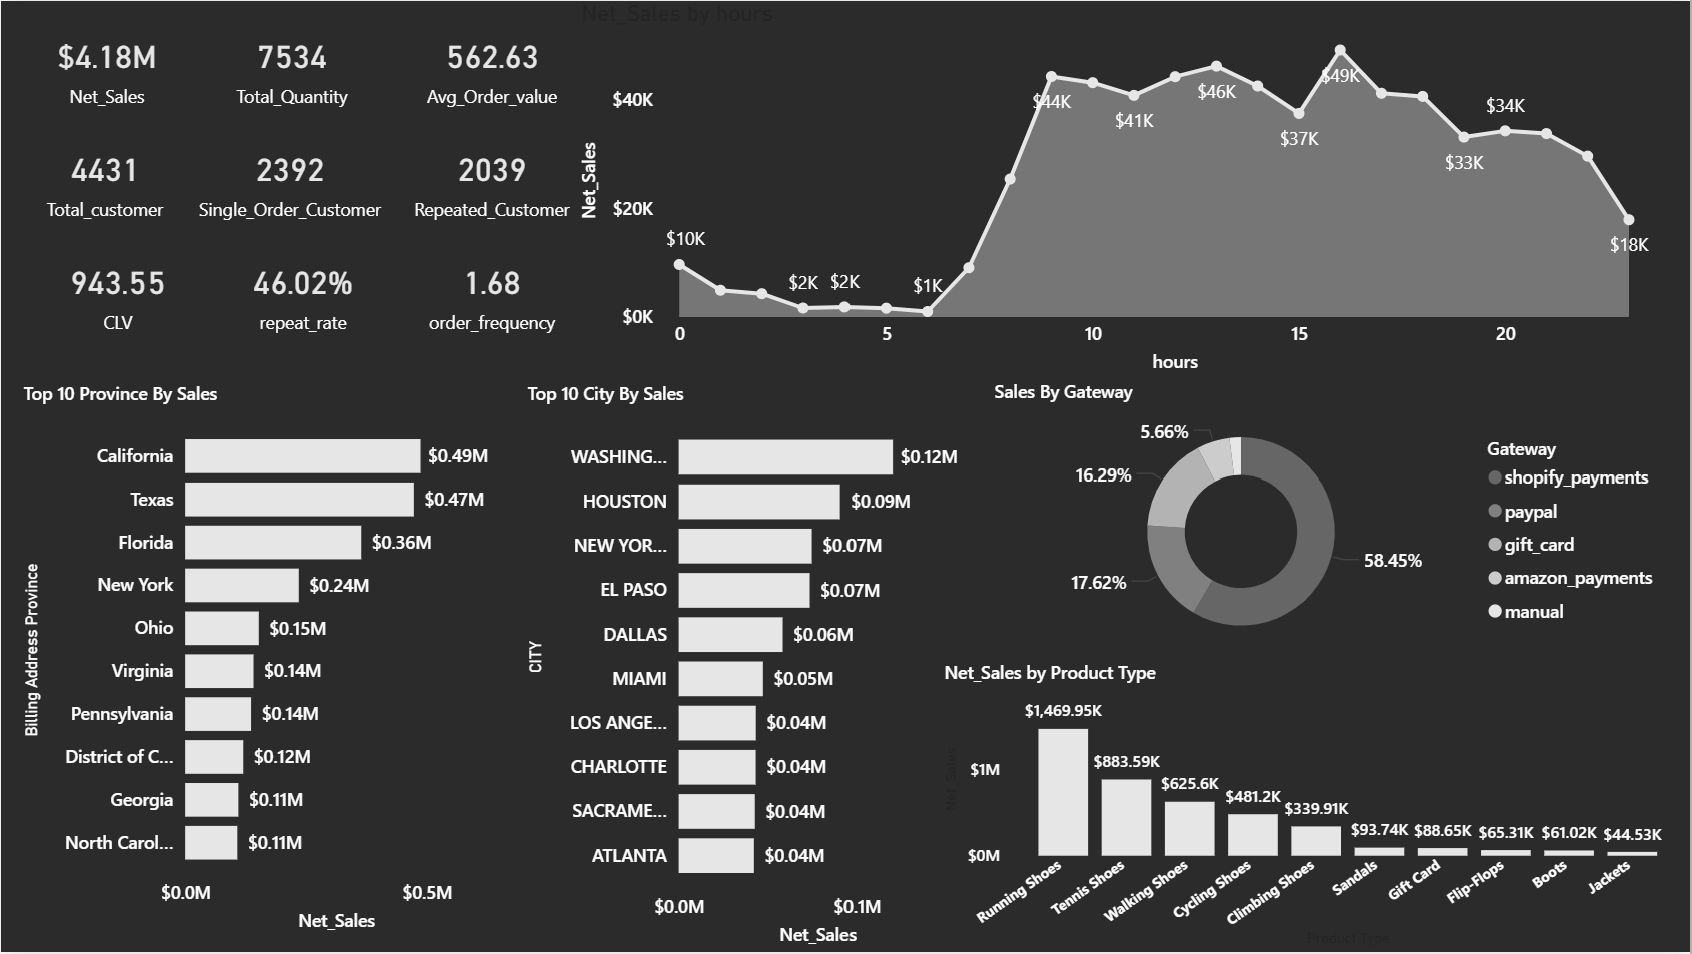

What the dashboard file says about the page in this screenshot:
{"tool":"powerbi","page":{"name":"Page 1","canvas":[1280,720],"ordinal":0},"visuals":[{"type":"card","fields":{"Values":["MeasureTable.Net_Sales"]},"box":[13.6,10.6,133.5,80.4],"z":0},{"type":"card","fields":{"Values":["MeasureTable.Total_Quantity"]},"box":[147.1,10.6,147.1,80.4],"z":1000},{"type":"card","fields":{"Values":["MeasureTable.Net_Average_Order_Value"]},"box":[294.2,10.6,156.2,80.4],"z":2000},{"type":"card","fields":{"Values":["MeasureTable.Total_customer"]},"box":[13.6,91,130.4,91],"z":3000},{"type":"card","fields":{"Values":["MeasureTable.Single_Order_Customer"]},"box":[144.1,91,150.1,91],"z":4000},{"type":"card","fields":{"Values":["MeasureTable.Repeated_Customer"]},"box":[294.2,91,156.2,91],"z":5000},{"type":"card","fields":{"Values":["MeasureTable.Customer_Lifetimne_Value"]},"box":[13.6,182,150.1,80.4],"z":6000},{"type":"card","fields":{"Values":["MeasureTable.repeat_rate"]},"box":[163.8,182,130.4,80.4],"z":7000},{"type":"card","fields":{"Values":["MeasureTable.order_frequency"]},"box":[294.2,182,156.2,80.4],"z":8000},{"type":"clusteredBarChart","title":"Top 10 Province By Sales","fields":{"Category":["Shopify Sales.Billing Address Province"],"Y":["MeasureTable.Net_Sales"]},"box":[12.1,288.2,382.2,421.6],"z":9000},{"type":"clusteredBarChart","title":"Top 10 City By Sales","fields":{"Y":["MeasureTable.Net_Sales"],"Category":["Shopify Sales.CITY"]},"box":[394.3,288.2,353.4,432.2],"z":10000},{"type":"lineChart","title":"Sales Hours Wise","fields":{"Category":["Shopify Sales.hours"],"Y":["MeasureTable.Net_Sales"]},"box":[435.3,0,844.7,286.6],"z":11000},{"type":"donutChart","title":"Sales By Gateway","fields":{"Y":["MeasureTable.sales_gateway_perct"],"Category":["Shopify Sales.Gateway"]},"box":[747.7,286.6,518.7,212.3],"z":12000},{"type":"clusteredColumnChart","fields":{"Category":["Shopify Sales.Product Type"],"Y":["MeasureTable.Net_Sales"]},"box":[709.8,499,570.2,221.4],"z":13000}]}

Visuals, with their boxes in screenshot pixels (x1, y1, x2, y2), scaled from the page's 1280x720 canvas onto the 1692x954 screenshot:
card - MeasureTable.Net_Sales: (left=18, top=14, right=194, bottom=121)
card - MeasureTable.Total_Quantity: (left=194, top=14, right=389, bottom=121)
card - MeasureTable.Net_Average_Order_Value: (left=389, top=14, right=595, bottom=121)
card - MeasureTable.Total_customer: (left=18, top=121, right=190, bottom=241)
card - MeasureTable.Single_Order_Customer: (left=190, top=121, right=389, bottom=241)
card - MeasureTable.Repeated_Customer: (left=389, top=121, right=595, bottom=241)
card - MeasureTable.Customer_Lifetimne_Value: (left=18, top=241, right=216, bottom=348)
card - MeasureTable.repeat_rate: (left=217, top=241, right=389, bottom=348)
card - MeasureTable.order_frequency: (left=389, top=241, right=595, bottom=348)
"Top 10 Province By Sales" clusteredBarChart: (left=16, top=382, right=521, bottom=940)
"Top 10 City By Sales" clusteredBarChart: (left=521, top=382, right=988, bottom=953)
"Sales Hours Wise" lineChart: (left=575, top=0, right=1691, bottom=380)
"Sales By Gateway" donutChart: (left=988, top=380, right=1674, bottom=661)
clusteredColumnChart - Shopify Sales.Product Type x MeasureTable.Net_Sales: (left=938, top=661, right=1691, bottom=953)
